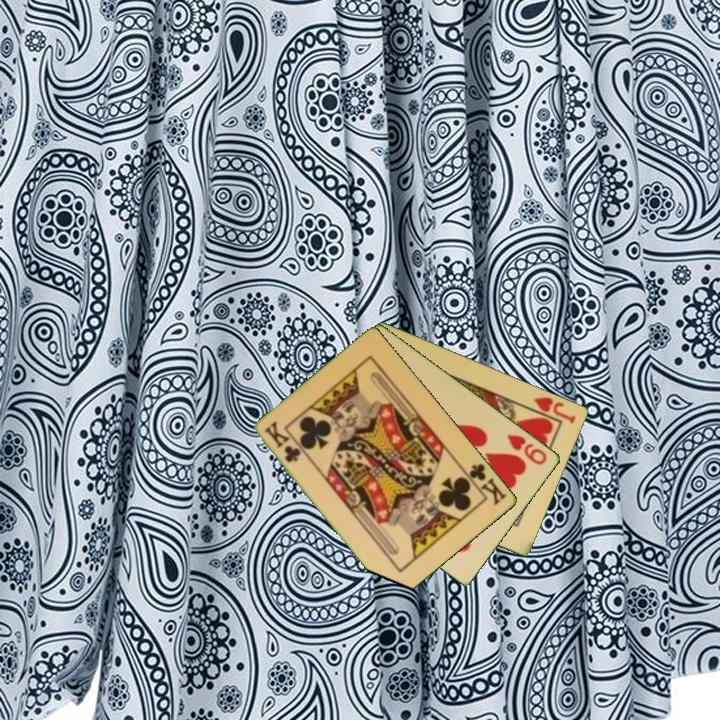9h: (504, 431, 550, 468)
Jh: (530, 393, 579, 426)
Kc: (461, 460, 510, 508), (261, 418, 304, 466)
